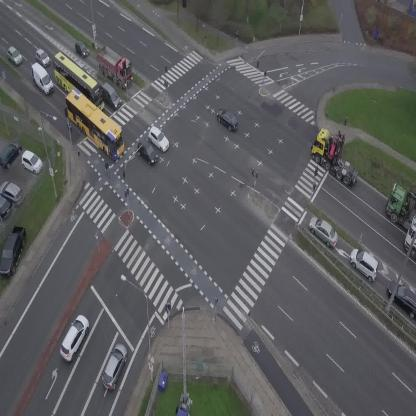bicycle: (103, 161, 109, 175)
bus: (57, 86, 134, 161), (42, 50, 113, 116)
car: (55, 312, 93, 362), (98, 342, 132, 392), (344, 245, 385, 284), (304, 213, 343, 250), (213, 104, 243, 133), (144, 124, 173, 153), (98, 80, 124, 111), (133, 138, 161, 166), (70, 38, 91, 60), (4, 45, 25, 67), (32, 47, 53, 68), (78, 62, 88, 71)
lorry: (303, 122, 375, 189), (87, 41, 141, 91), (25, 60, 57, 98)
